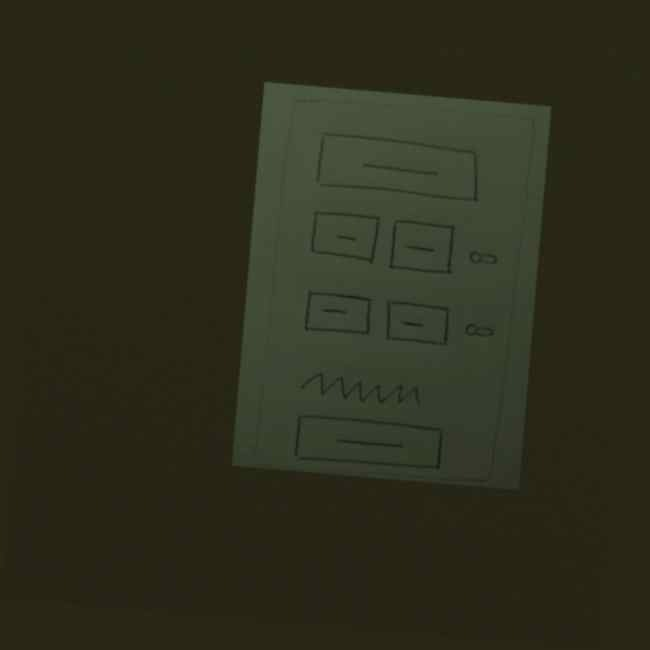button: (305, 126, 494, 209), (290, 406, 451, 476), (301, 203, 388, 270), (294, 281, 378, 343), (377, 292, 460, 353), (385, 216, 465, 278)
switch: (464, 243, 511, 273), (460, 317, 504, 346)
text: (293, 364, 431, 410)
